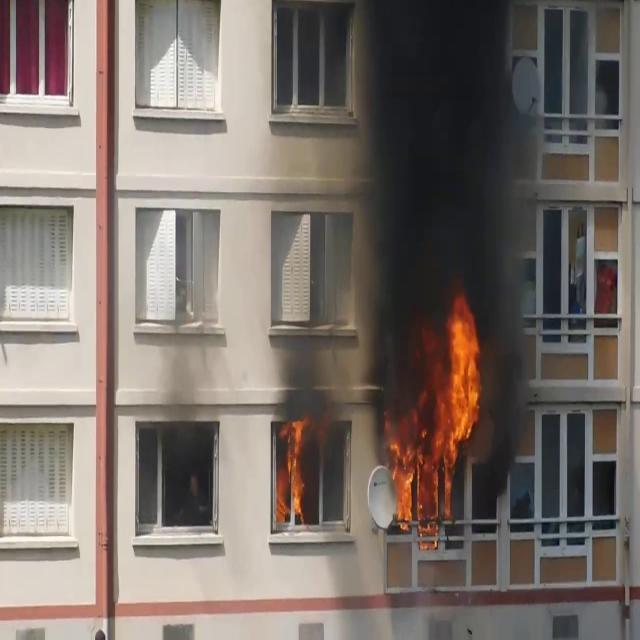Fire: (388, 292, 486, 530), (278, 416, 310, 522)
Smoke: (340, 1, 542, 393)
